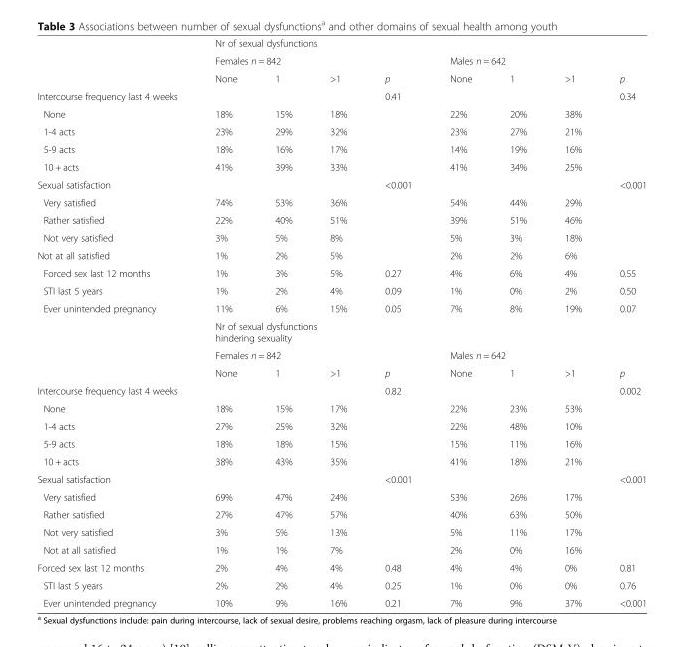table: (36, 37, 646, 608)
table column: (36, 37, 195, 608), (365, 37, 430, 608), (195, 37, 255, 608), (430, 37, 490, 608), (255, 37, 310, 608), (310, 37, 365, 608), (490, 37, 545, 608), (545, 37, 600, 608), (600, 37, 646, 608)
table column header: (36, 37, 646, 86)
table row: (36, 317, 646, 346), (36, 51, 646, 69), (36, 86, 646, 104), (36, 104, 646, 122), (36, 122, 646, 140), (36, 157, 646, 175), (36, 175, 646, 193), (36, 210, 646, 228), (36, 228, 646, 246), (36, 263, 646, 281), (36, 281, 646, 299), (36, 299, 646, 317), (36, 363, 646, 381), (36, 381, 646, 399), (36, 416, 646, 434), (36, 434, 646, 452), (36, 452, 646, 470), (36, 487, 646, 505), (36, 505, 646, 523), (36, 540, 646, 558), (36, 558, 646, 576), (36, 69, 646, 86), (36, 140, 646, 157), (36, 193, 646, 210), (36, 246, 646, 263), (36, 346, 646, 363), (36, 399, 646, 416), (36, 470, 646, 487), (36, 523, 646, 540), (36, 576, 646, 593), (36, 593, 646, 608), (36, 37, 646, 51)
table spanning cell: (195, 317, 646, 346), (36, 299, 195, 381), (195, 37, 646, 51), (195, 51, 430, 69), (195, 346, 430, 363), (430, 51, 646, 69), (430, 346, 646, 363)
